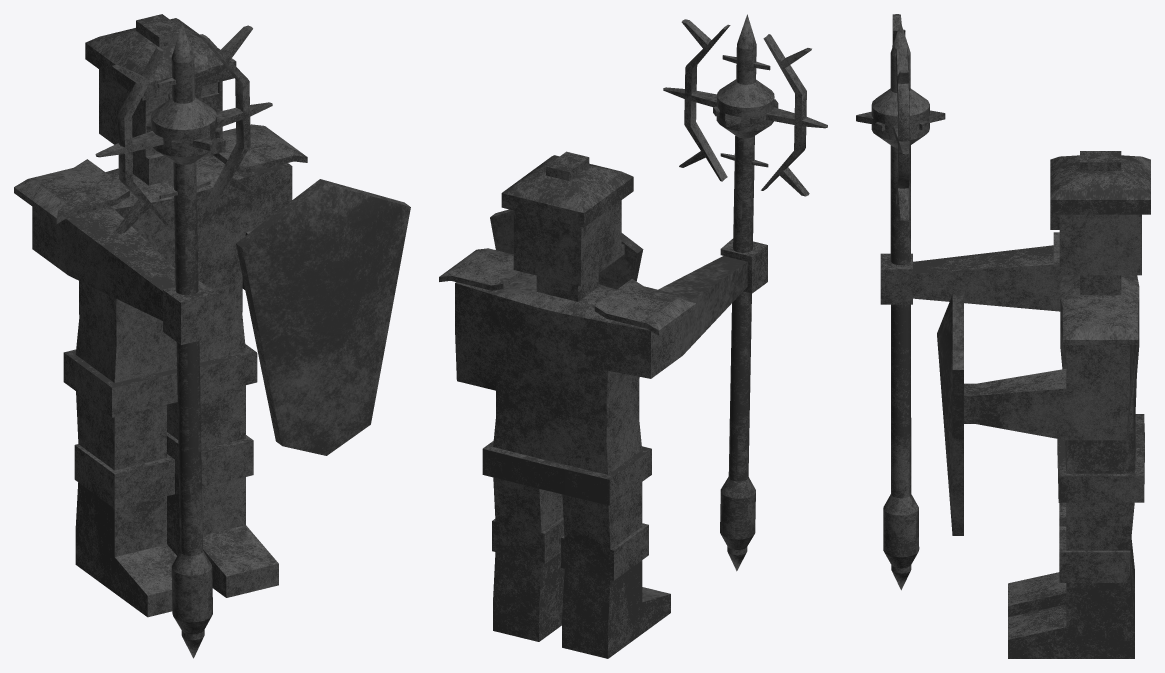
File: Main_Statue_01.fbx
3 renders of one model, left to right at view 1: azimuth 30°, elevation 25°; view 2: azimuth 150°, elevation 25°; view 3: azimuth 270°, elevation 25°, orthographic. The views are drawn at different scales.
Parts seen in each view (by area): view 1: Statue, Shield, Staff1; view 2: Statue, Staff1, Shield; view 3: Statue, Staff1, Shield.
Part boxes in pixels (<box>): Statue: <box>14,14,307,617</box>; Shield: <box>236,179,410,455</box>; Staff1: <box>95,23,272,658</box>; Statue: <box>439,151,767,658</box>; Staff1: <box>663,14,827,571</box>; Shield: <box>490,209,643,289</box>; Statue: <box>880,151,1150,658</box>; Staff1: <box>856,14,945,590</box>; Shield: <box>937,294,963,535</box>.
Size of the model in its own units: 1.88 by 3.35 by 1.57.
